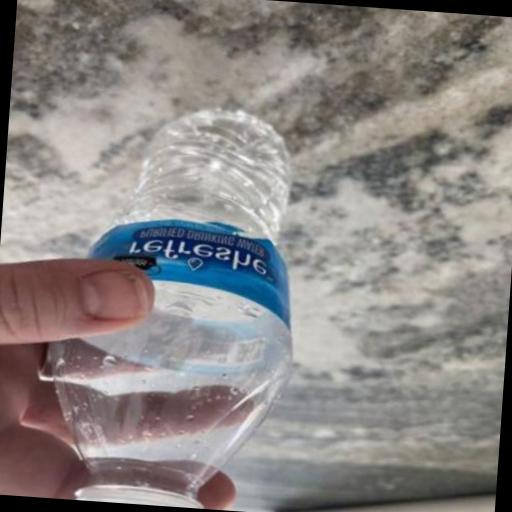Coca: (37, 93, 321, 512)
